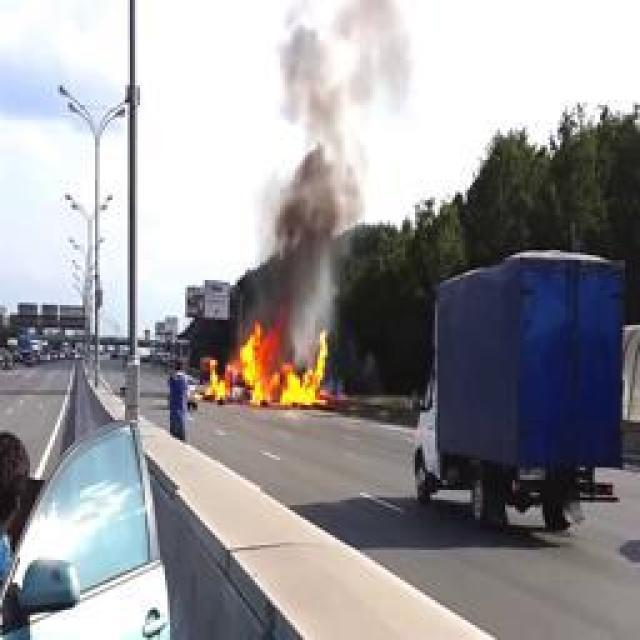Fire: (205, 320, 330, 408)
